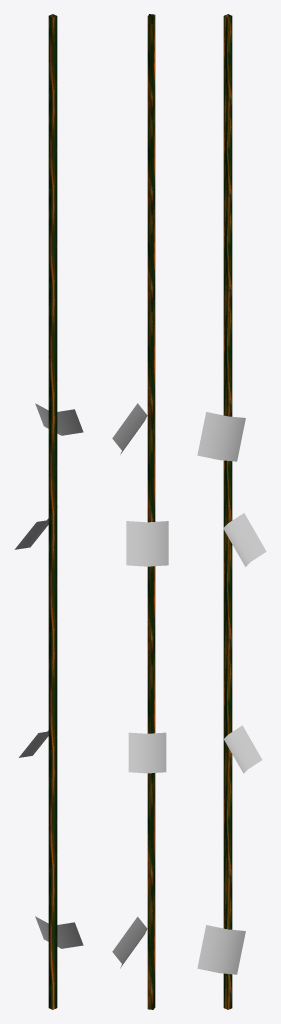
File: INST_OH_VINE.obj
3 renders of one model, left to right at view 1: azimuth 90°, elevation 25°; view 2: azimuth 210°, elevation 25°; view 3: azimuth 270°, elevation 25°, orthographic.
Visible parts, largest first — view 1: Ekh_Vine_; view 2: Ekh_Vine_; view 3: Ekh_Vine_.
Part boxes in pixels (left/top/right/bottom): Ekh_Vine_: left=14, top=14, right=83, bottom=1009; Ekh_Vine_: left=112, top=14, right=168, bottom=1009; Ekh_Vine_: left=197, top=14, right=266, bottom=1009.
Size of the model in its own units: 32.69 by 680 by 43.06.
